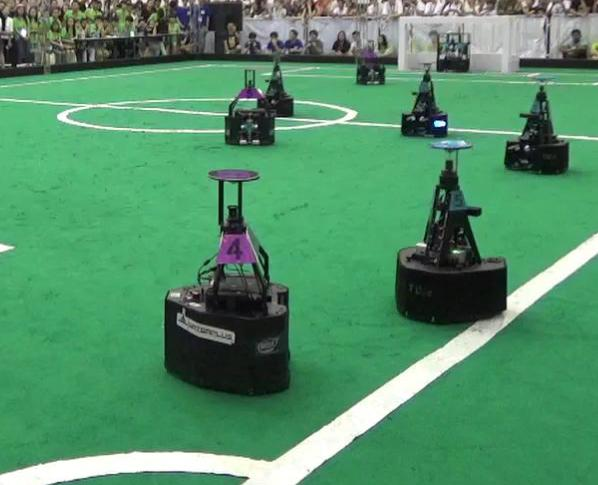robot: (159, 163, 299, 400), (391, 136, 511, 327), (501, 74, 571, 177), (216, 69, 283, 148), (396, 63, 450, 138)
